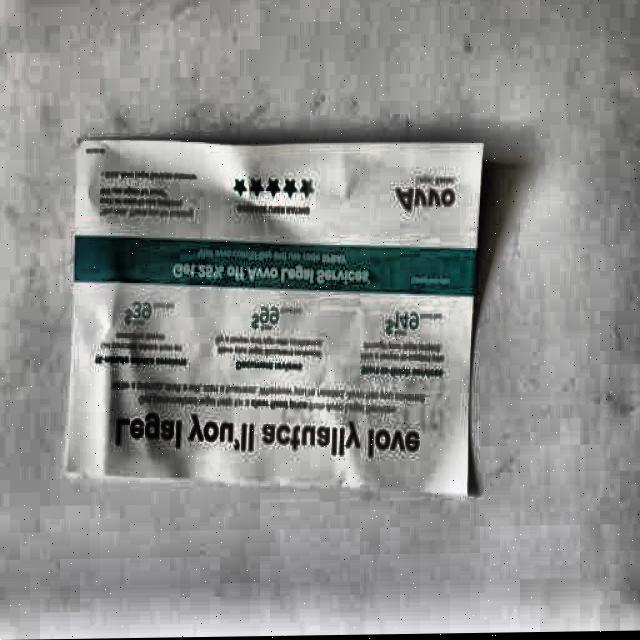paper: (62, 137, 484, 503)
